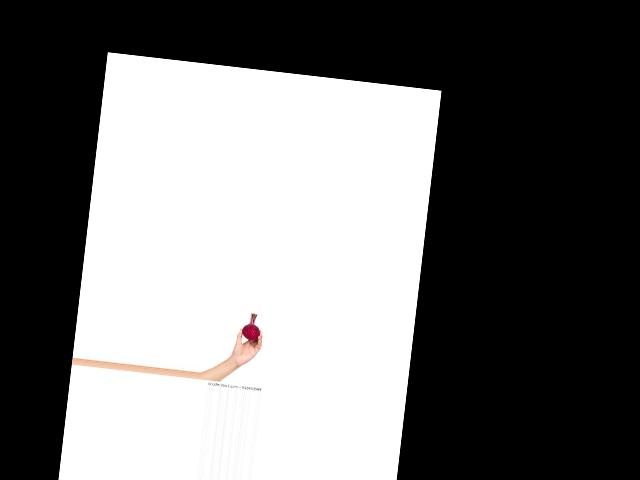beet: (241, 312, 262, 340)
